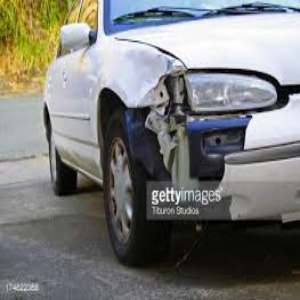head_lights: (174, 67, 289, 122)
